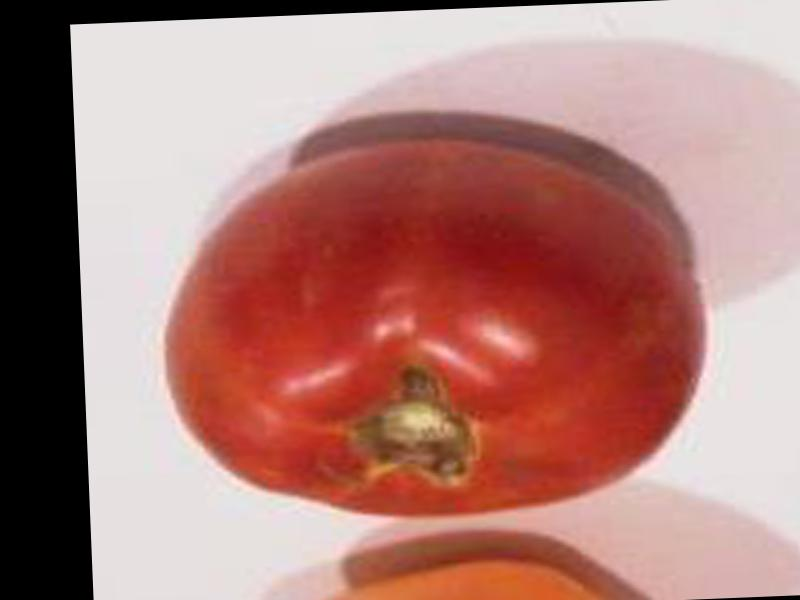Tomato: (156, 134, 707, 524)
